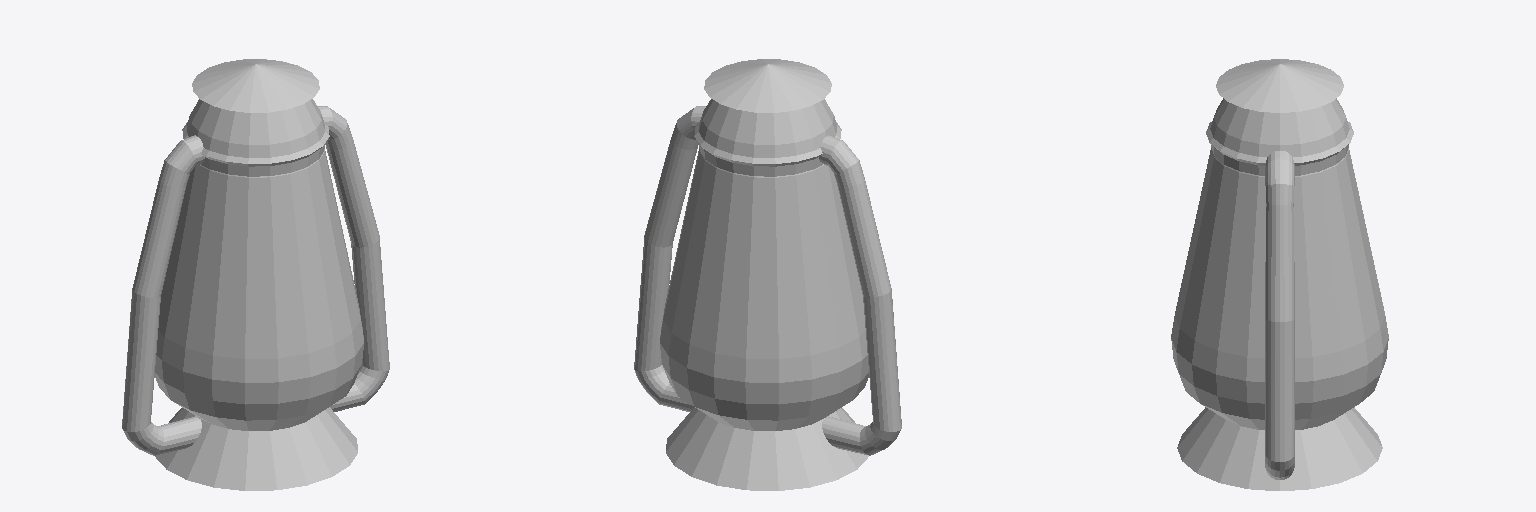
Rendered from Lamp.obj.
The picture shows the model from 3 angles: view 1: azimuth 30°, elevation 25°; view 2: azimuth 150°, elevation 25°; view 3: azimuth 270°, elevation 25°; orthographic projection.
Visible parts, largest first — view 1: polySurface17; view 2: polySurface17; view 3: polySurface17.
Boxes of the visible parts, x1,y1,x2,y2 form: polySurface17: [122, 59, 389, 490]; polySurface17: [634, 59, 901, 490]; polySurface17: [1171, 59, 1388, 490].
Bounding box in the file's own units: 3.09 × 4.29 × 2.21.